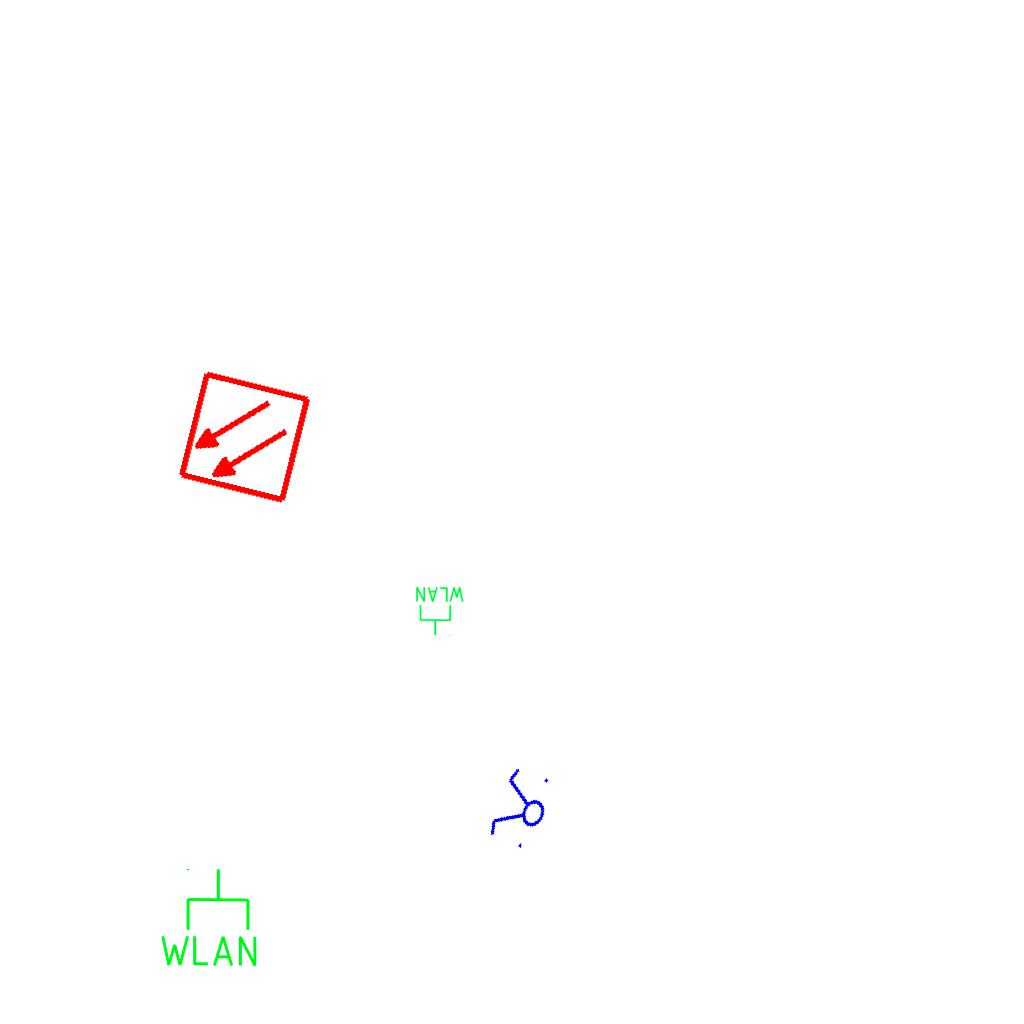RMO_Rauchmelder_optischer: (176, 369, 313, 506)
Serienschalter: (483, 761, 559, 857)
WLAN: (156, 866, 261, 970), (414, 585, 466, 637)
